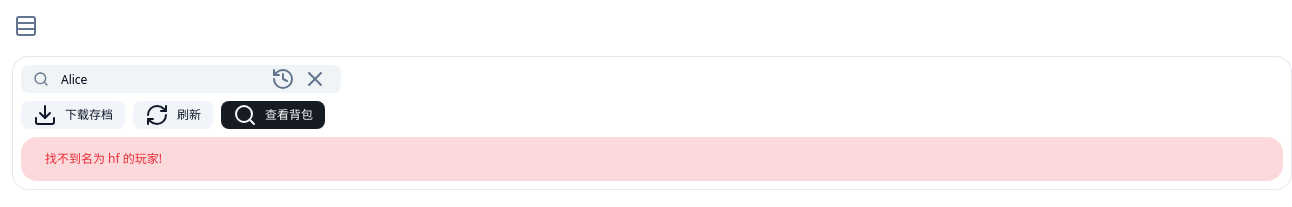
PlayerManagerPage › 上游 4xx 的具体错误（如查无此玩家）原样显示
The image size is (1292, 207).
Replace the text in the field with placeholder "输入玩家名（支持离线）" with "hf" at (155, 79), box x1=49 y1=65 x2=261 y2=93
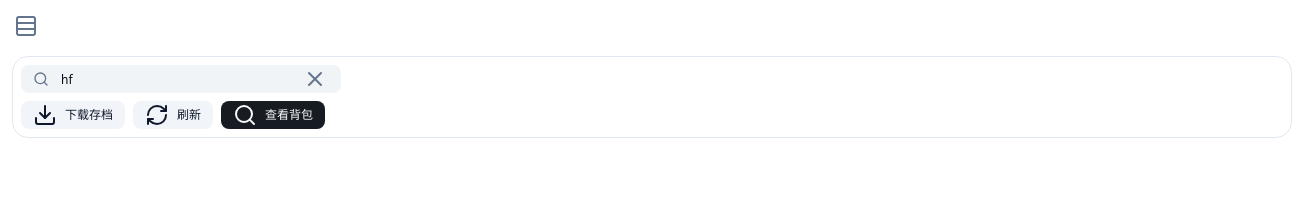
Press Enter in the field with placeholder "输入玩家名（支持离线）", box x1=49 y1=65 x2=293 y2=93
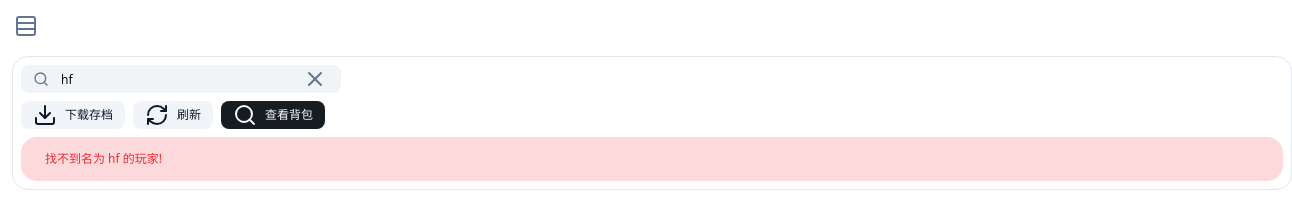
Expected: the text "找不到名为 hf 的玩家!" is shown, x1=45 y1=150 x2=162 y2=167
